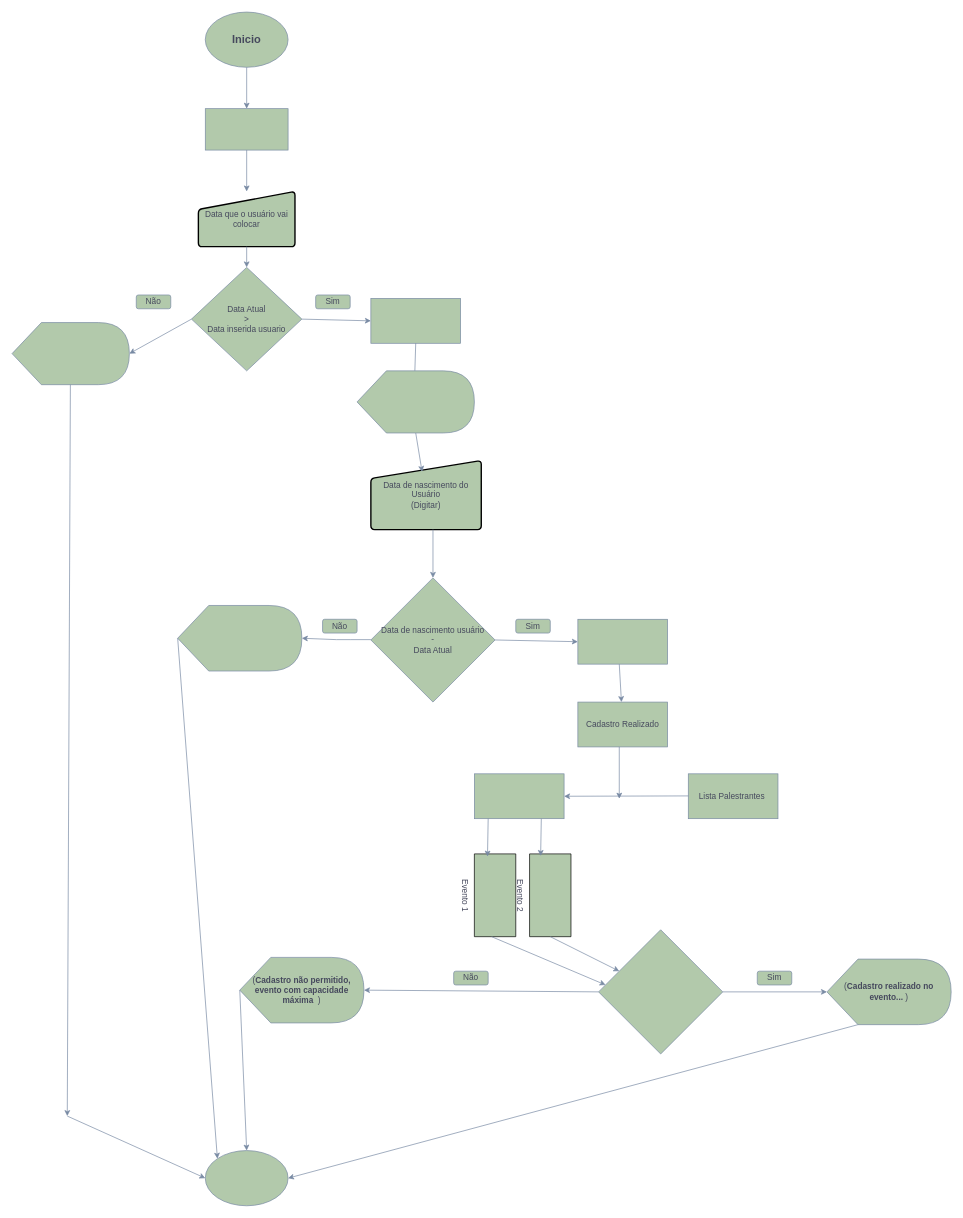
This 963x1218 diagram has some shape labels left out. The centre of each missing label's shape, as x and y in pixels:
( Cadastro não permitido pela idade ): point (239, 638)
(cadastro idade): point (415, 401)
Data Atual: point (246, 129)
Escrever ( data inválida ): point (70, 353)
Fim: point (246, 1178)
Lista Participantes: point (519, 796)
Permitie o cadastro: point (622, 641)
Permitiro evento ( ir para idade ): point (415, 320)
Quantidade < que 100 participantes: point (660, 991)
